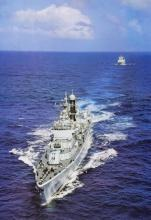warship: (28, 91, 100, 206)
